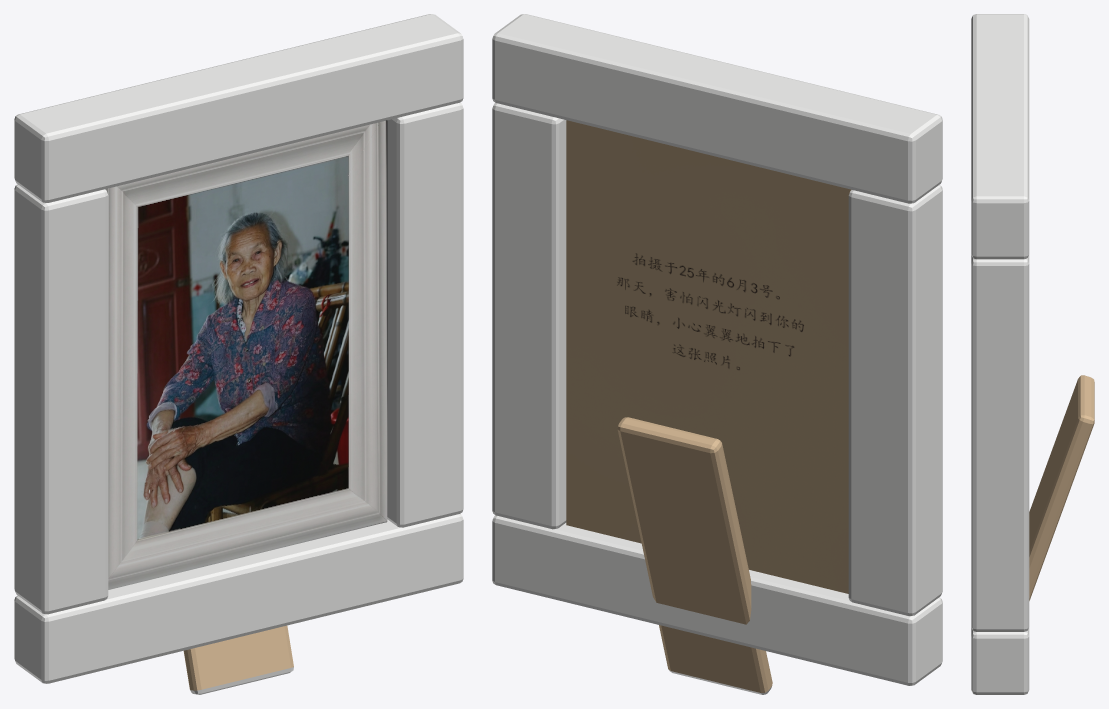
3 views of the same model, side by side, from view 1: azimuth 30°, elevation 25°; view 2: azimuth 150°, elevation 25°; view 3: azimuth 270°, elevation 25° (orthographic). The views are drawn at different scales.
Visible parts, largest first — view 1: PhotoFrame; view 2: PhotoFrame; view 3: PhotoFrame.
Part boxes in pixels (box(x1,y1,x2,y2)): PhotoFrame: box(14, 14, 463, 694); PhotoFrame: box(492, 14, 942, 694); PhotoFrame: box(971, 14, 1094, 694).
Bounding box in the file's own units: 0.1524 × 0.2101 × 0.0426.
